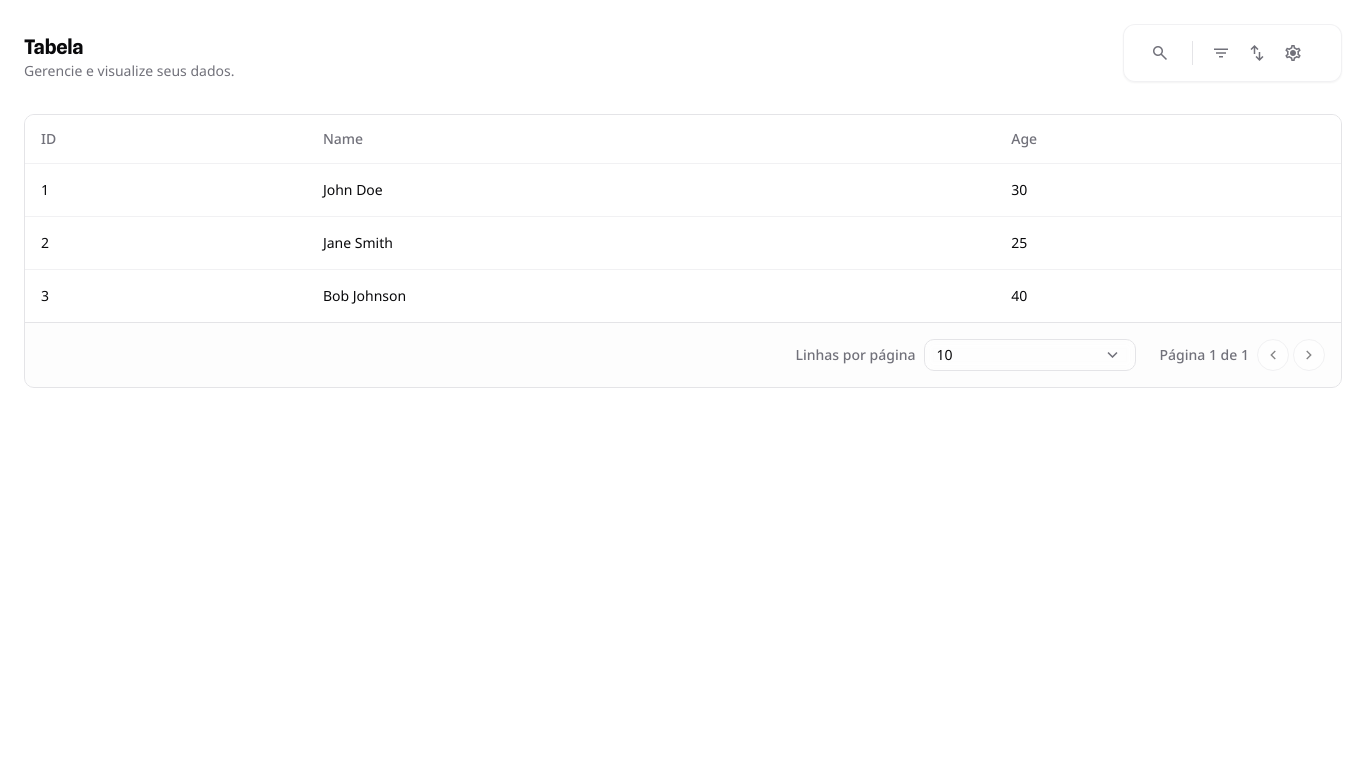
Test: NexusTable › renders detail view on row click
expect the text "John Doe" is shown: met, box [323,180,383,198]
Click the text "John Doe": (683, 190) [25,163,1341,216]
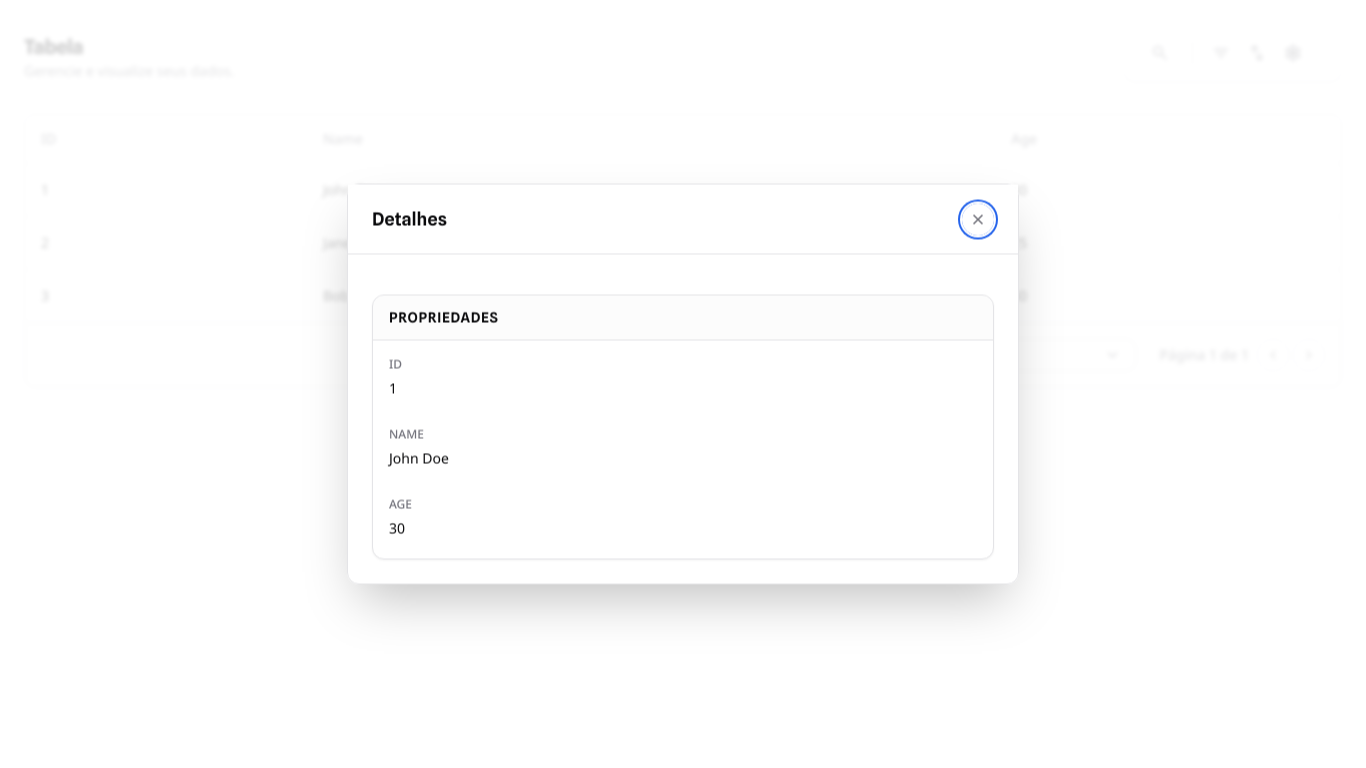
expect the heading "Detalhes" is shown: met, box [372,205,447,233]
